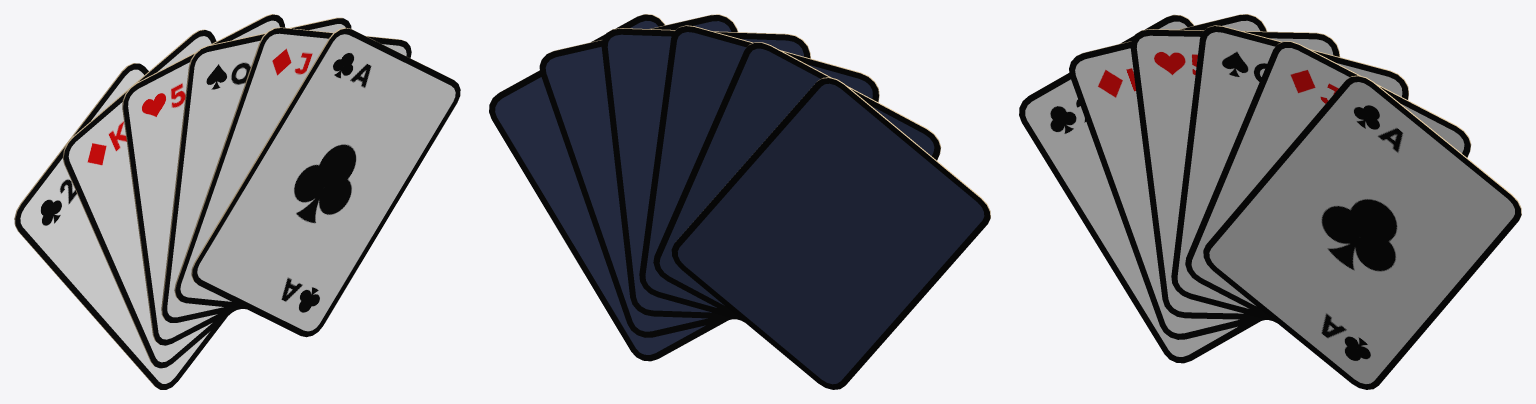
File: day3_cards.fbx
3 renders of one model, left to right at view 1: azimuth 30°, elevation 25°; view 2: azimuth 150°, elevation 25°; view 3: azimuth 330°, elevation 25°, orthographic. The views are drawn at different scales.
Parts seen in each view (by area): view 1: Card.007, Card.002, Card.003, Card.004, Card.005, Card.006; view 2: Card.002, Card.003, Card.004, Card.005, Card.006, Card.007; view 3: Card.007, Card.006, Card.005, Card.004, Card.003, Card.002.
Part boxes in pixels (left/top/right/bottom): Card.007: left=191, top=27, right=460, bottom=337; Card.002: left=14, top=63, right=226, bottom=389; Card.003: left=62, top=29, right=231, bottom=368; Card.004: left=122, top=14, right=285, bottom=345; Card.005: left=161, top=17, right=351, bottom=322; Card.006: left=174, top=27, right=411, bottom=309; Card.002: left=671, top=77, right=990, bottom=389; Card.003: left=653, top=42, right=941, bottom=322; Card.004: left=639, top=25, right=879, bottom=320; Card.005: left=601, top=28, right=810, bottom=319; Card.006: left=539, top=14, right=738, bottom=337; Card.007: left=489, top=14, right=728, bottom=361; Card.007: left=1203, top=75, right=1521, bottom=389; Card.006: left=1185, top=41, right=1471, bottom=322; Card.005: left=1171, top=25, right=1408, bottom=320; Card.004: left=1130, top=29, right=1340, bottom=319; Card.003: left=1069, top=14, right=1267, bottom=339; Card.002: left=1019, top=14, right=1260, bottom=363.
Bounding box in the file's own units: 15.75 × 10.86 × 1.18.
